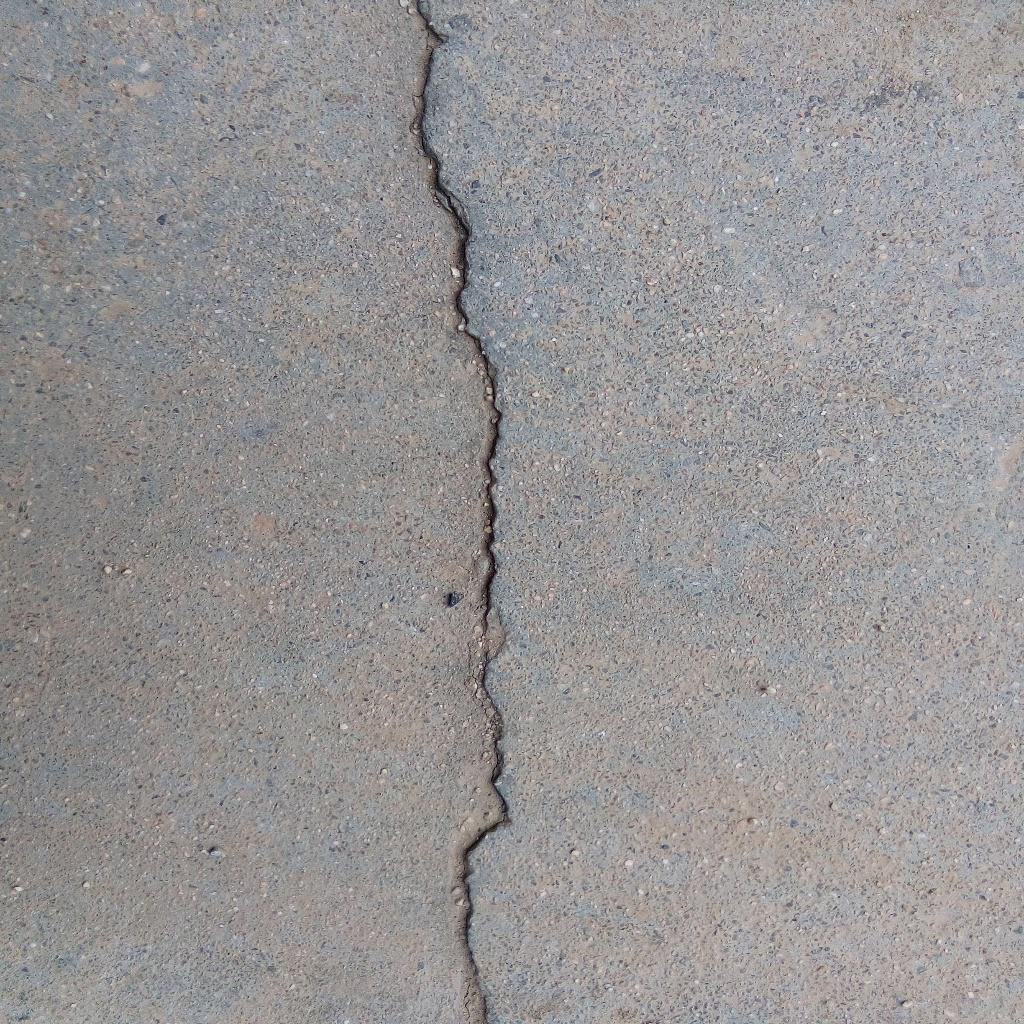Crack: (412, 1, 516, 1024)
